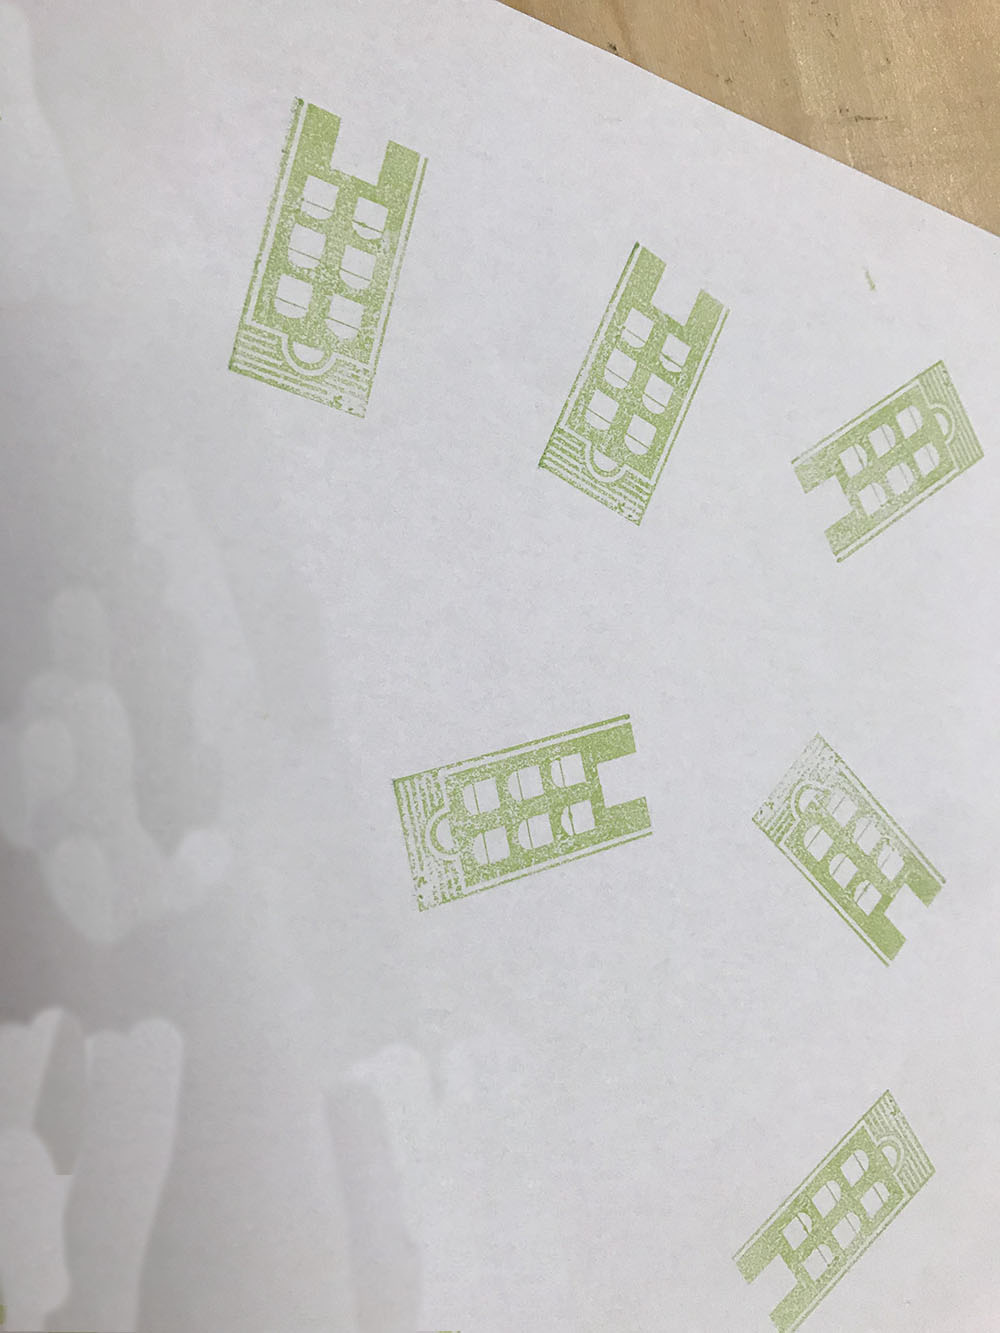build: (193, 72, 449, 443), (502, 189, 752, 558), (356, 694, 689, 947), (729, 701, 970, 992), (713, 1056, 952, 1333), (778, 331, 1000, 584)
